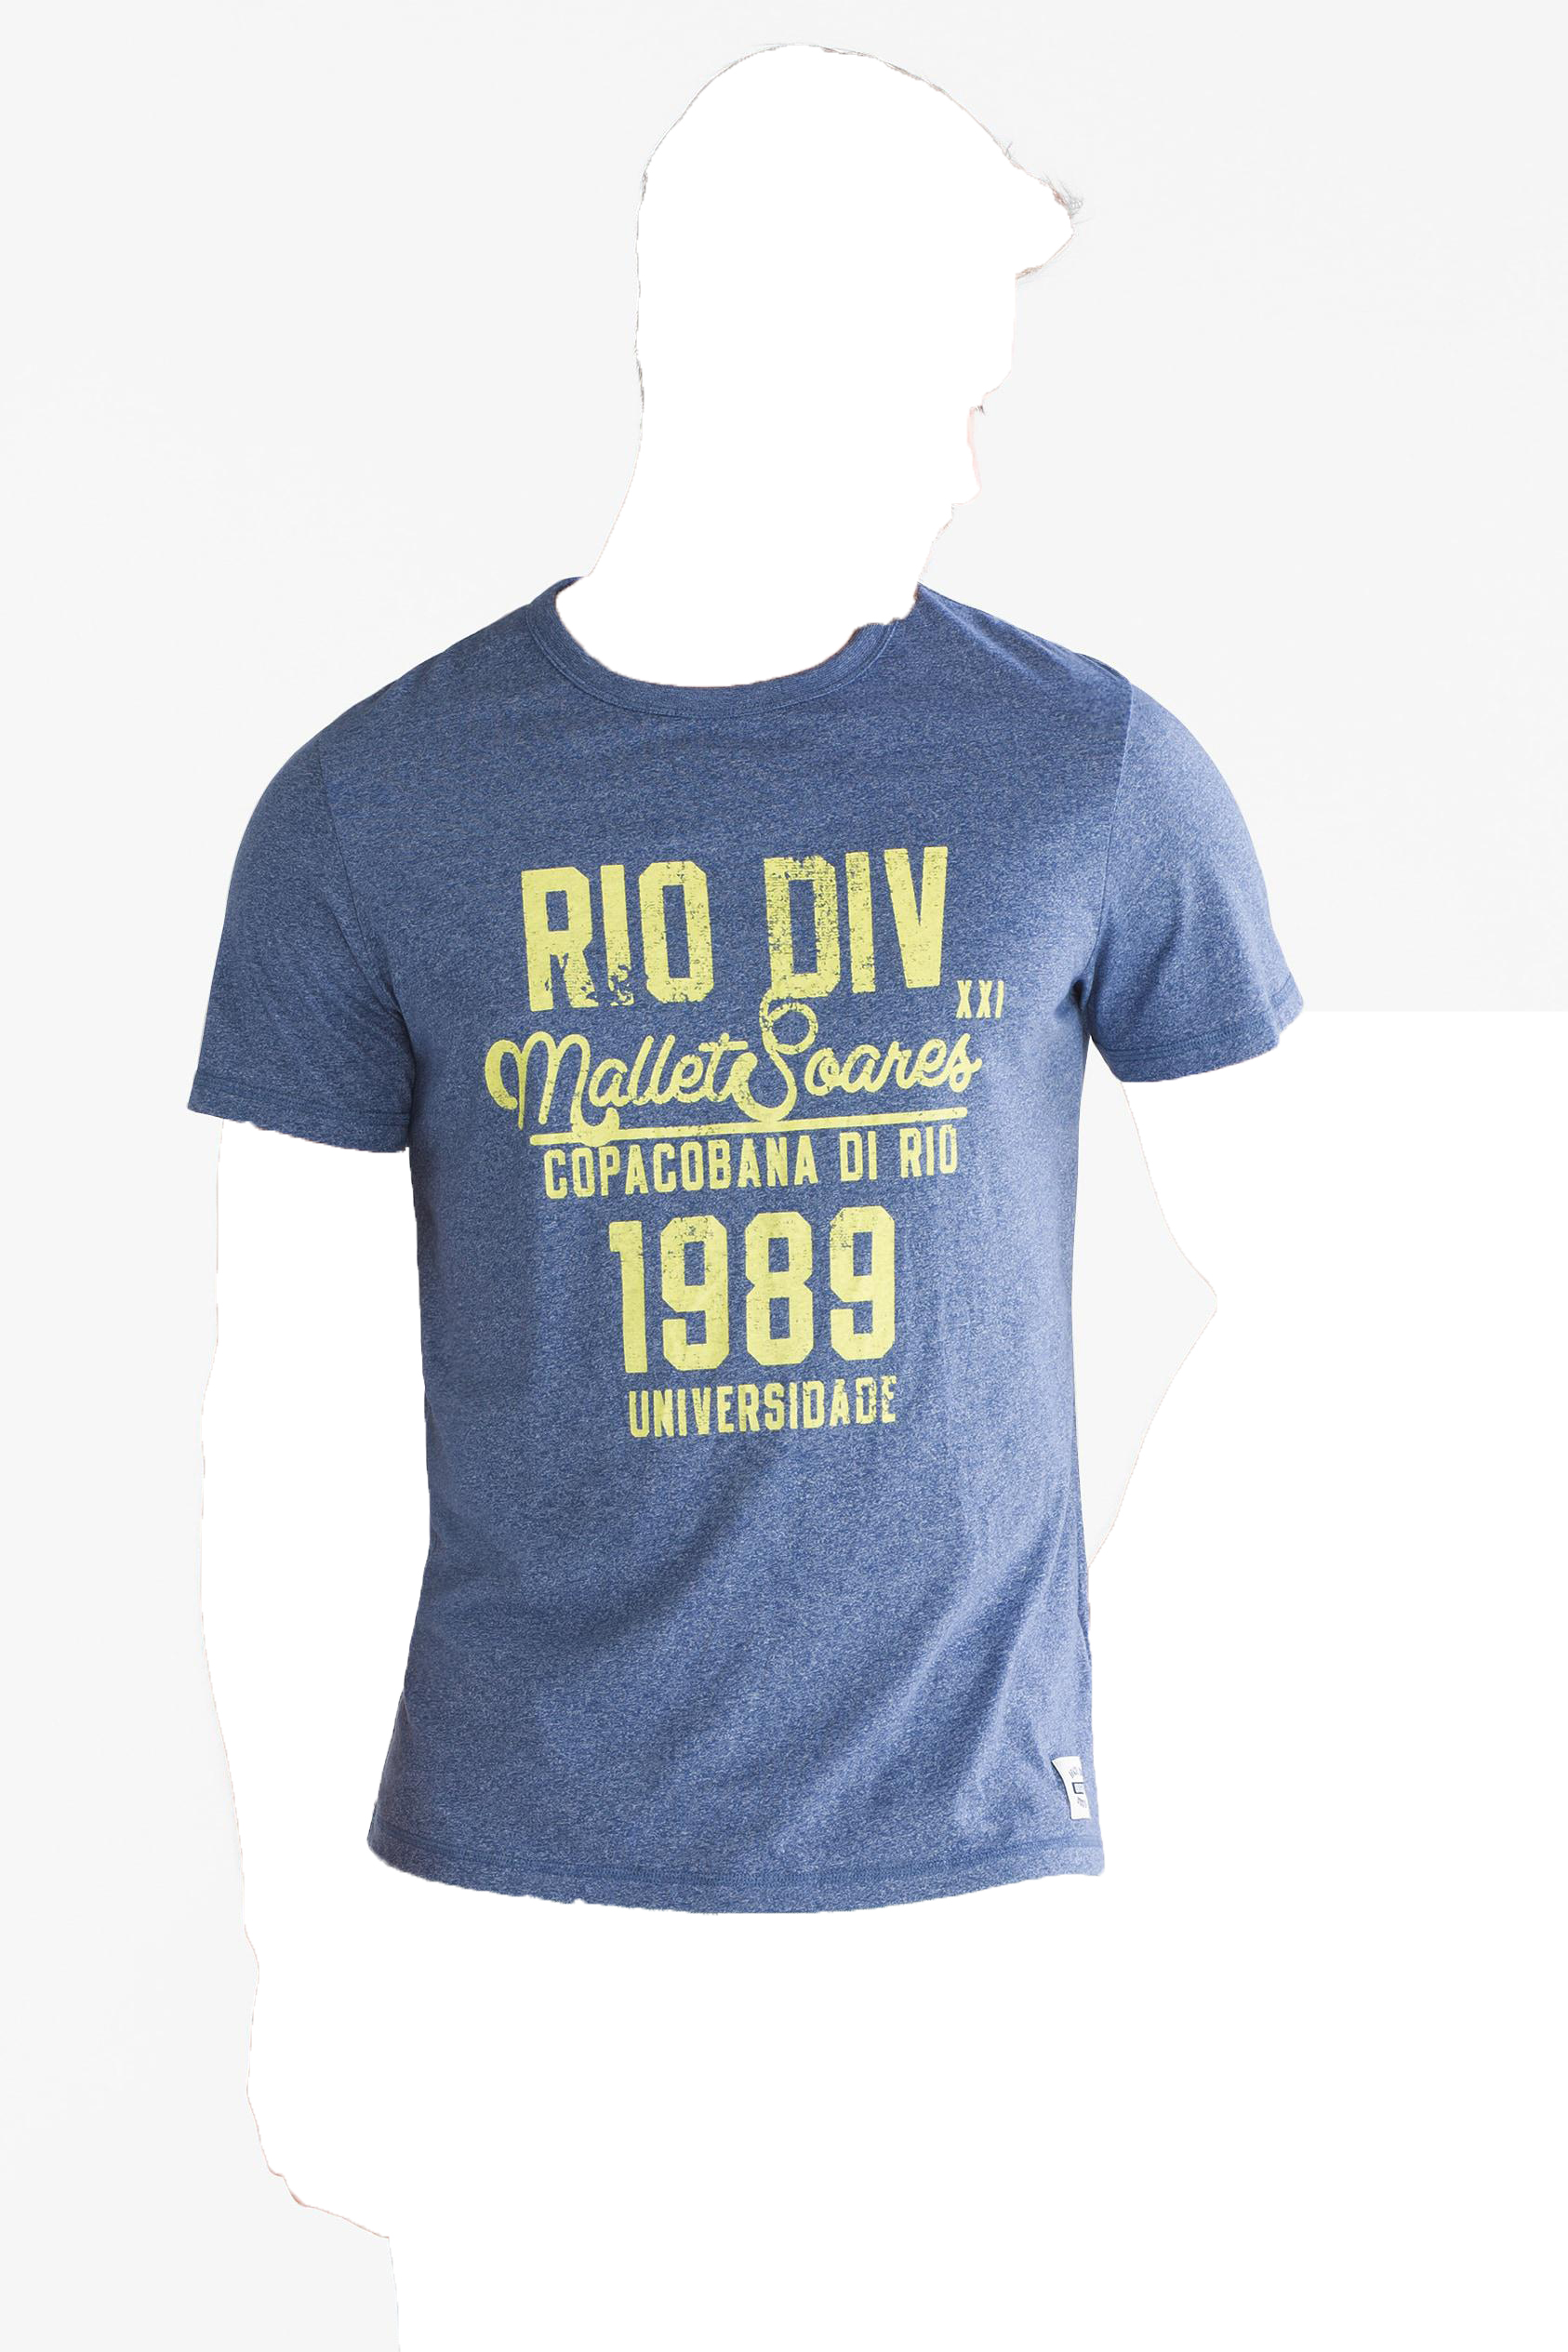teeshirt: (159, 560, 1347, 1916)
